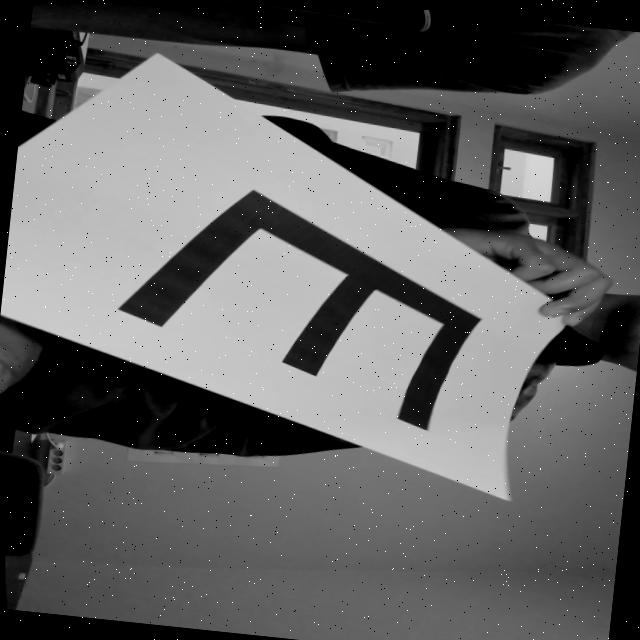e: (75, 161, 508, 443)
